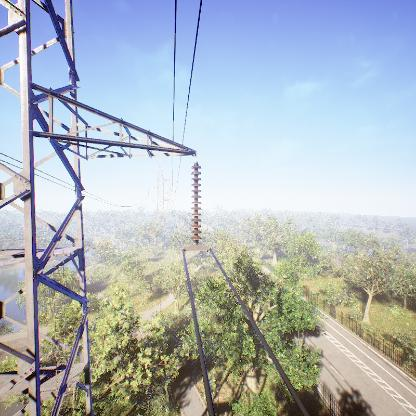insulator: (189, 161, 203, 245)
